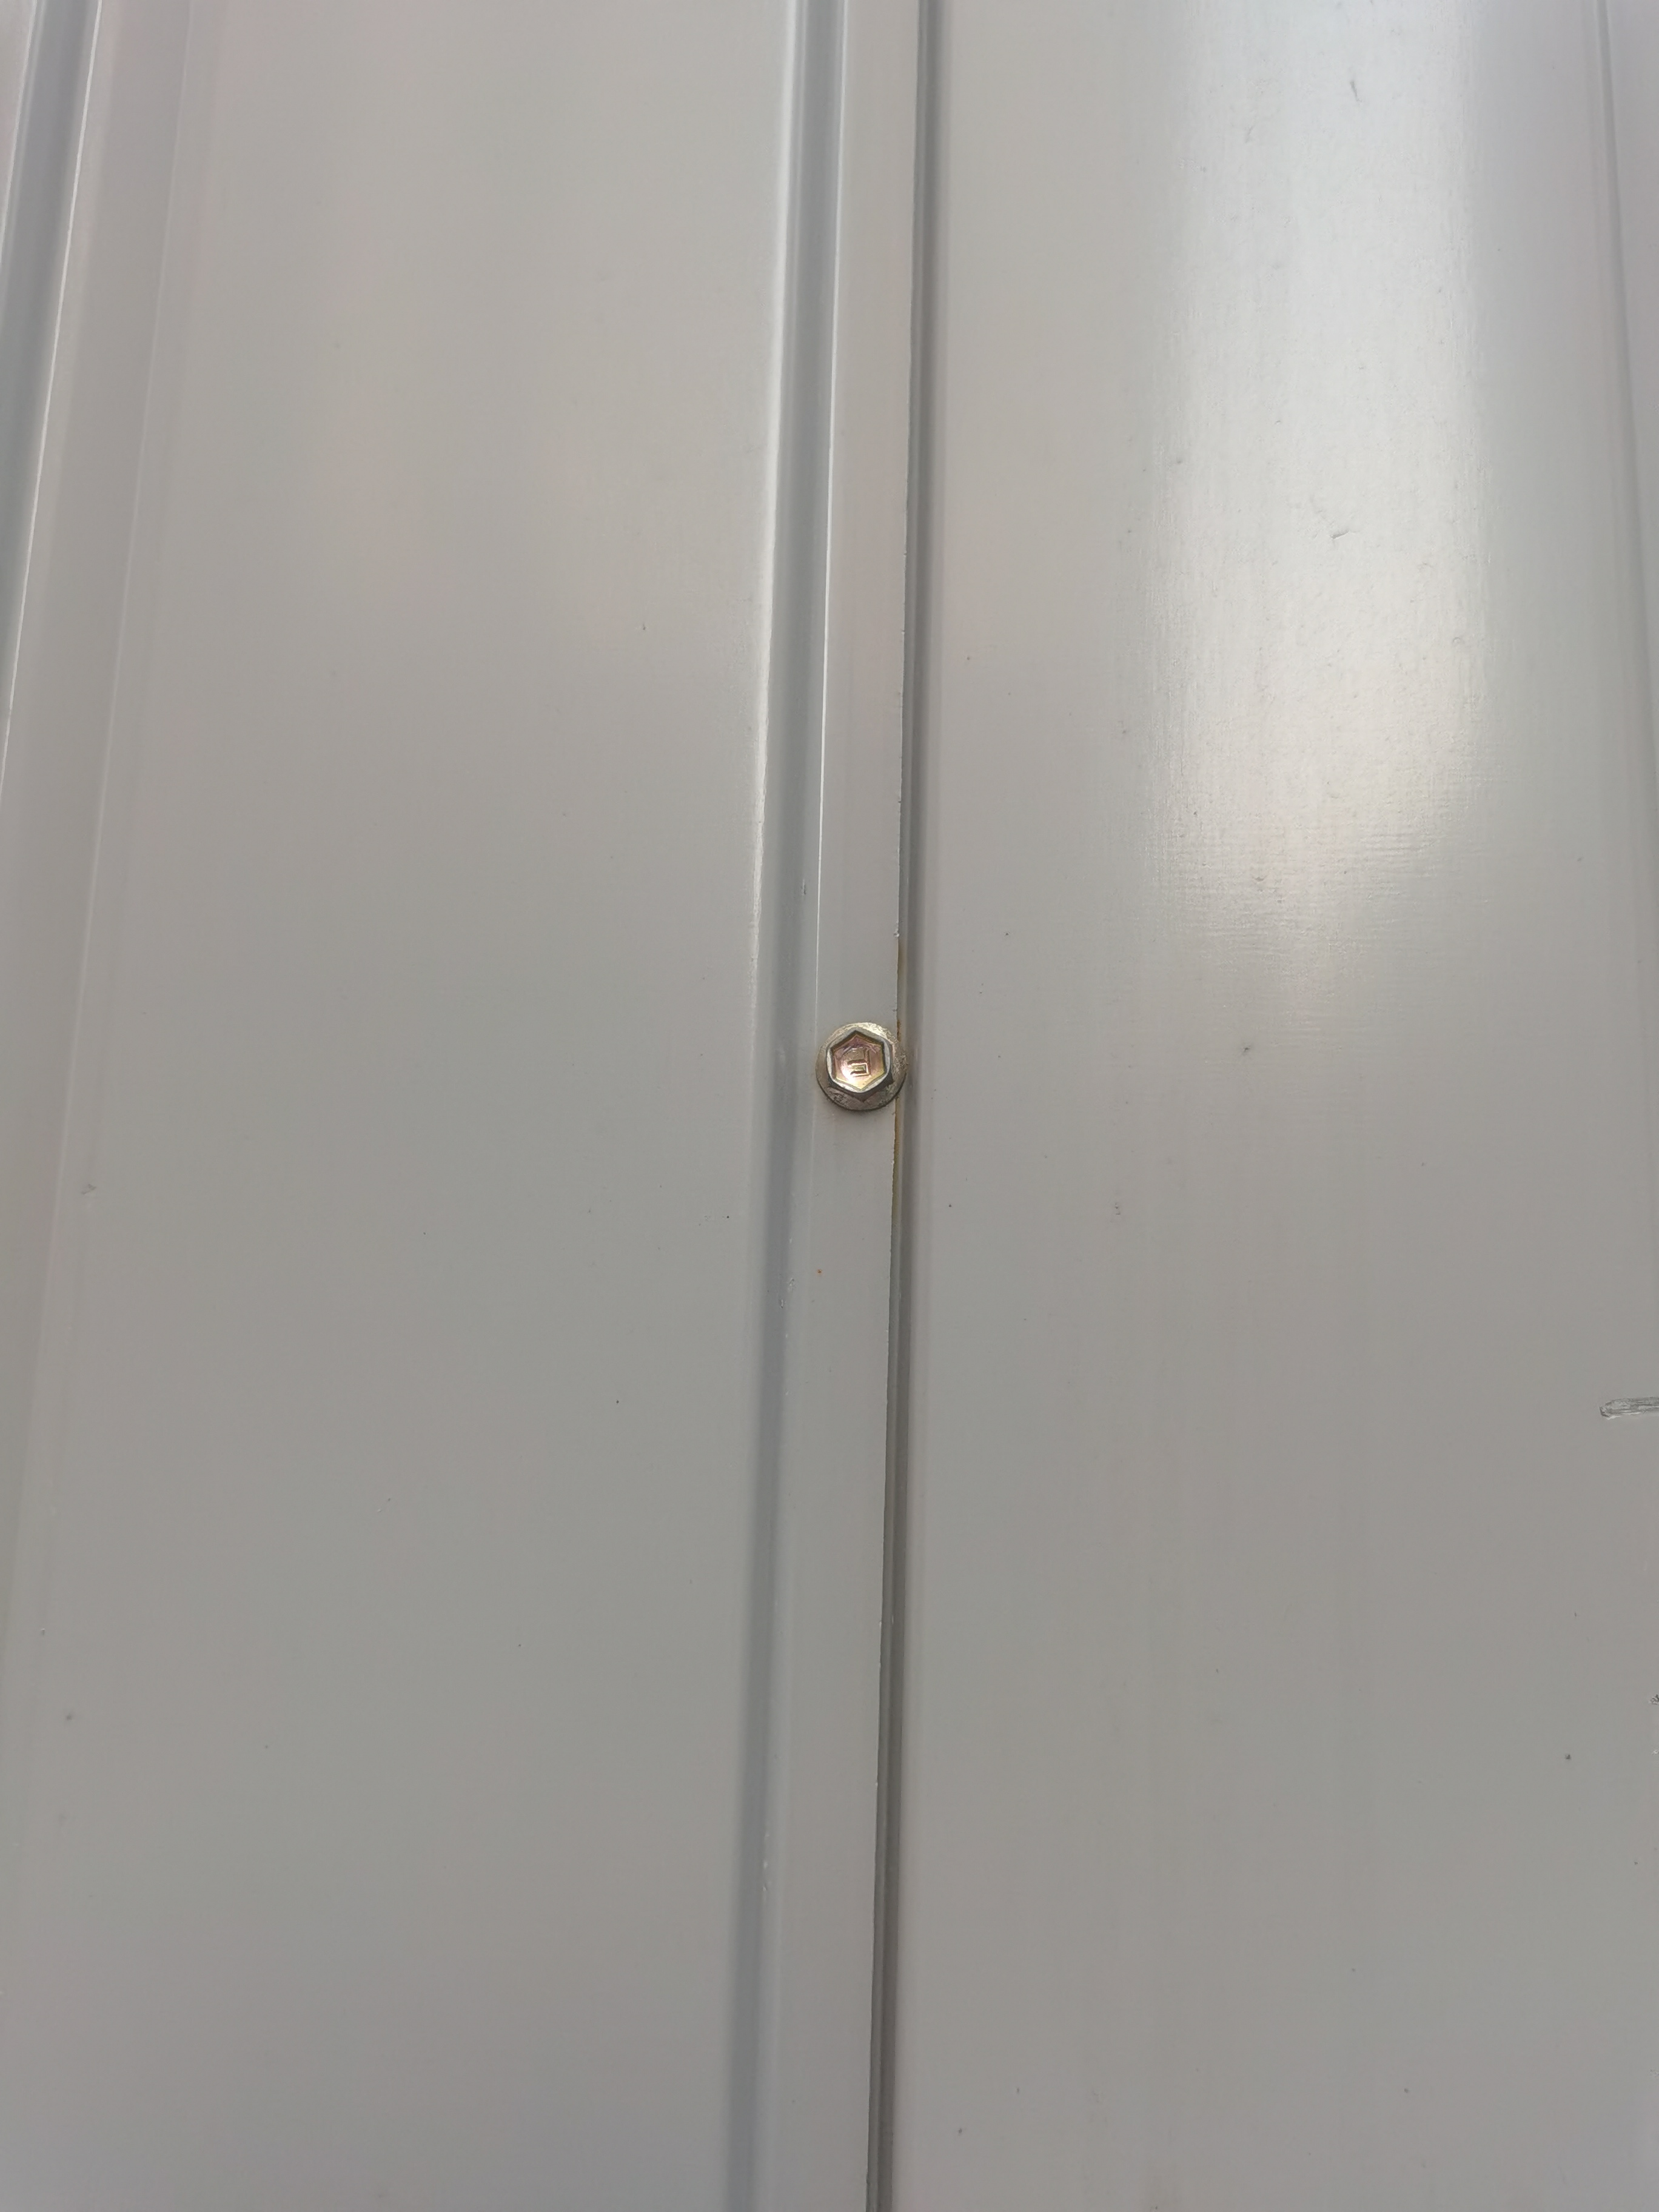bolt_a: (817, 1021, 901, 1104)
